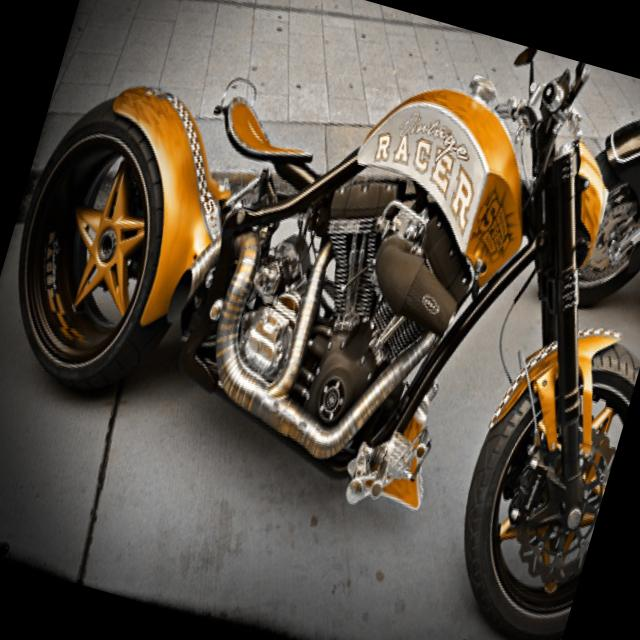Vehicle: (0, 0, 640, 640), (559, 74, 640, 321)
